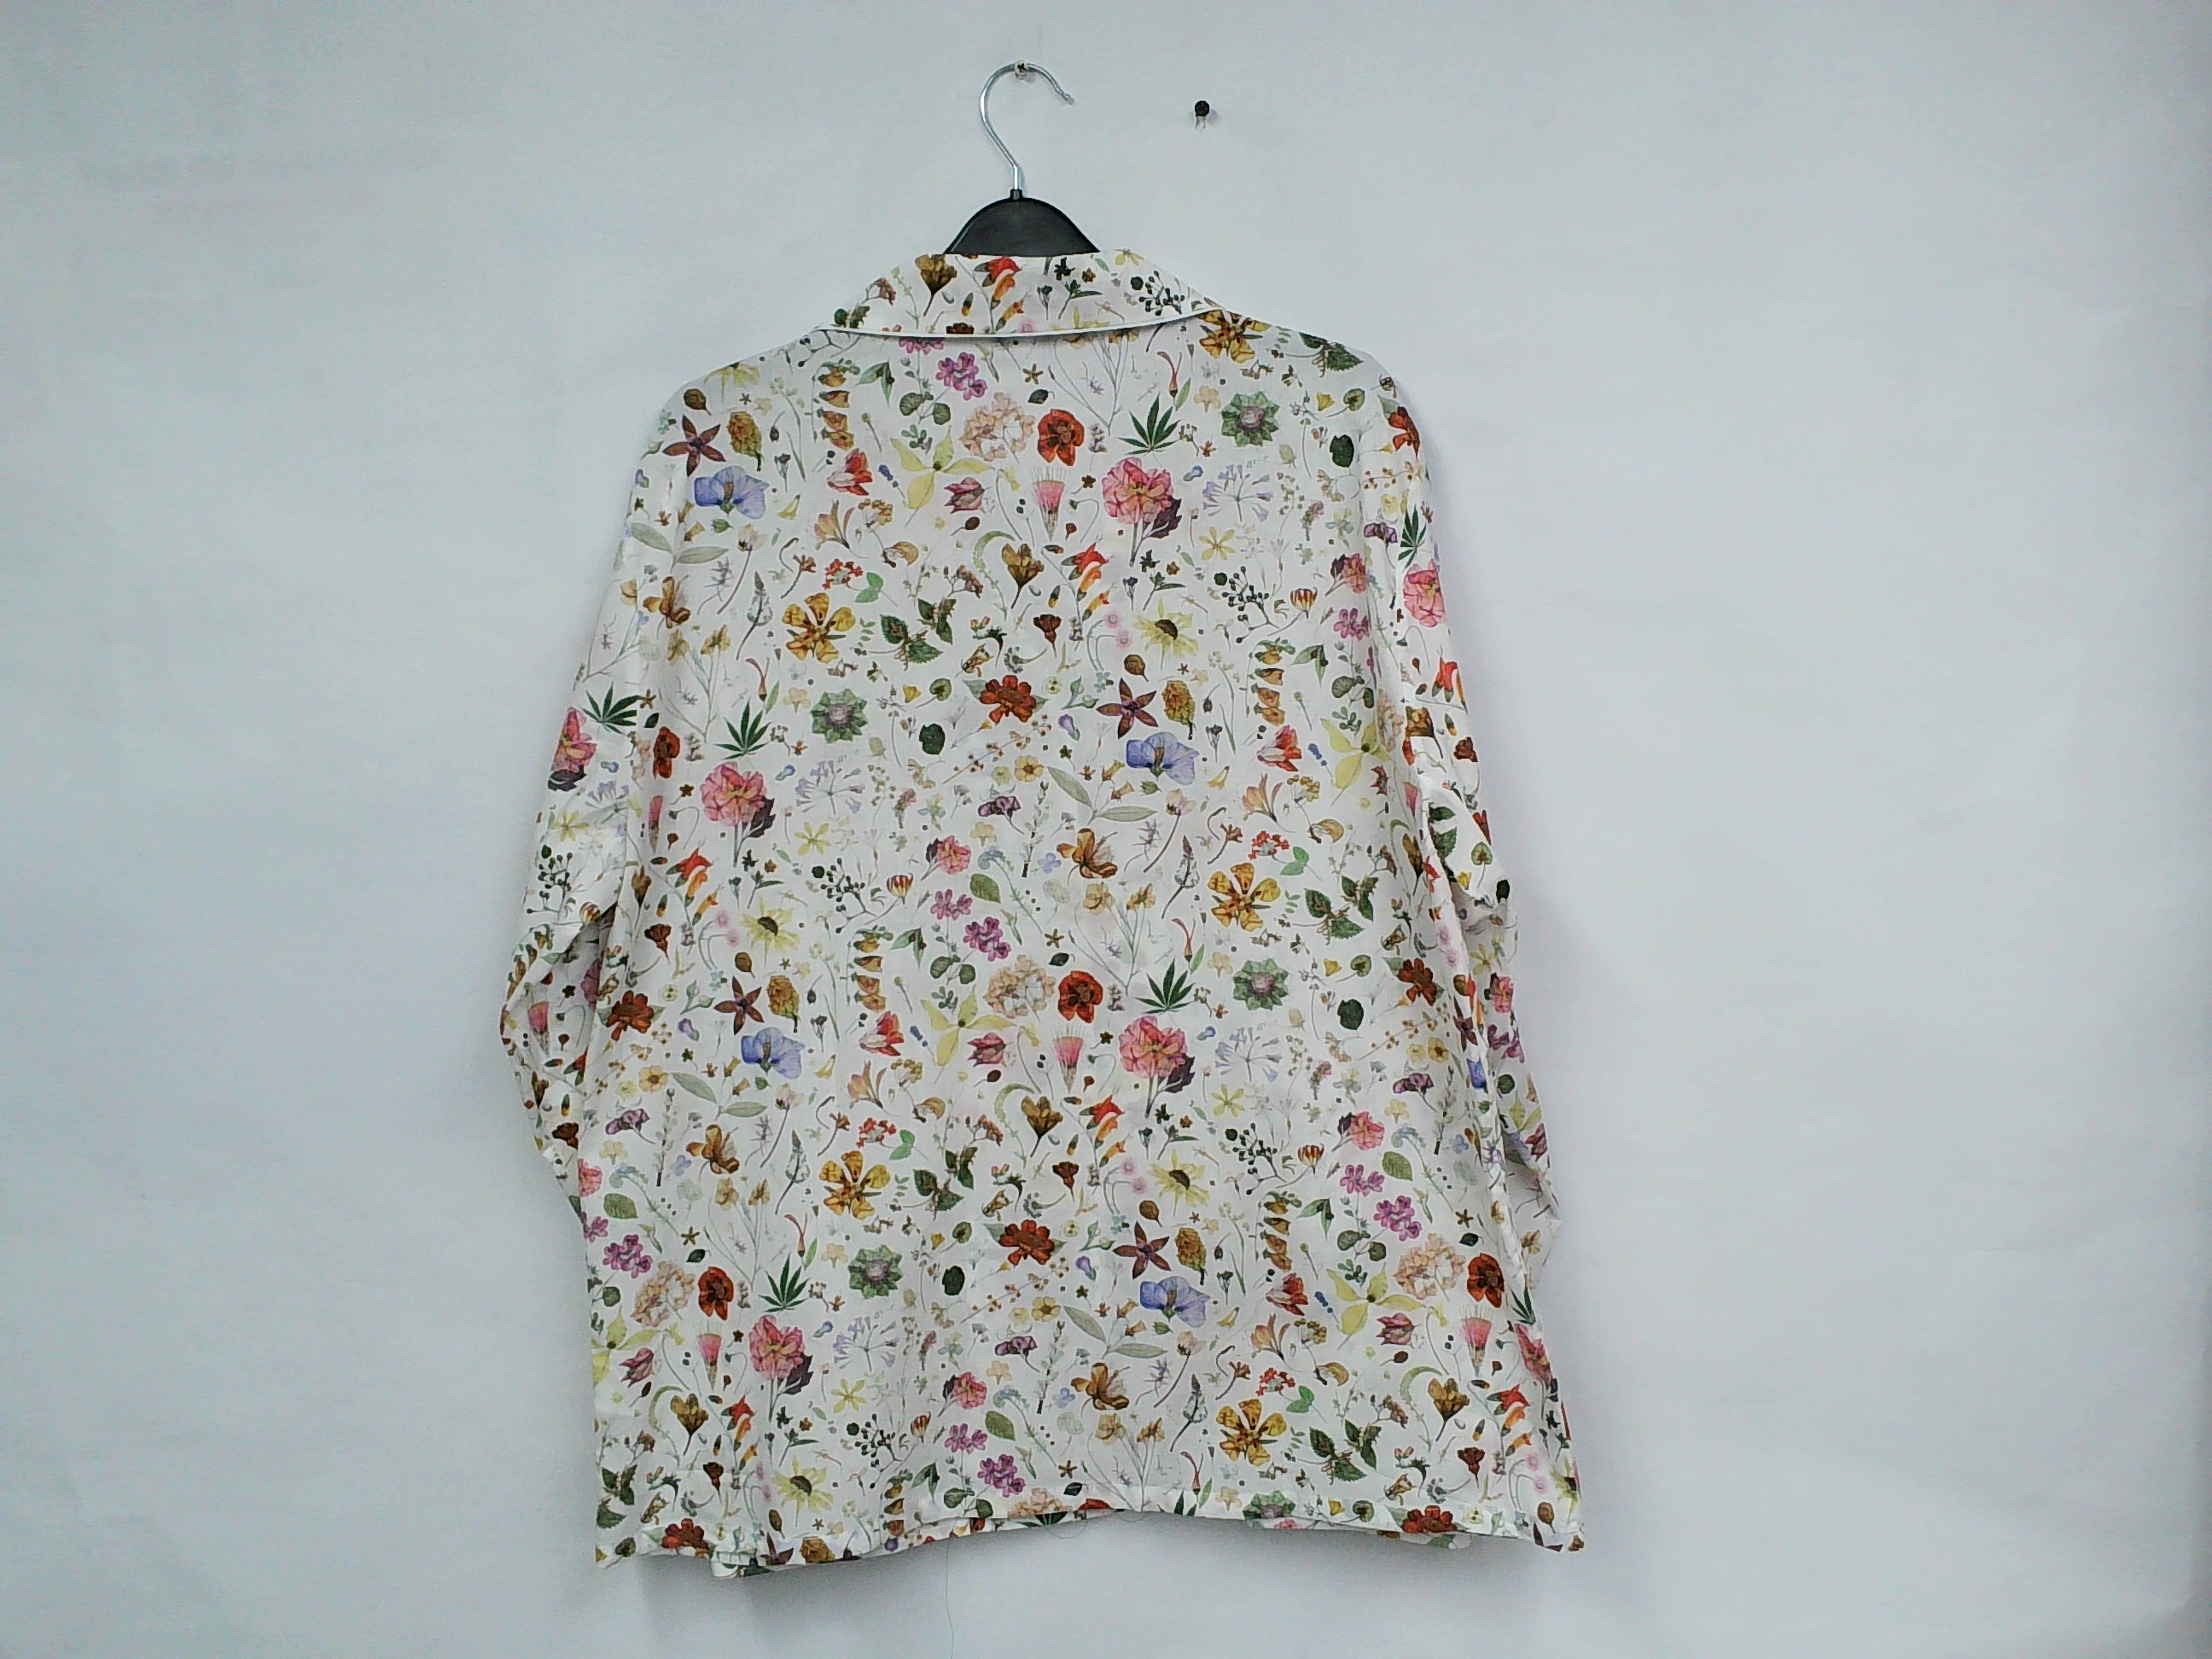seam: (899, 1469, 1346, 1572)
